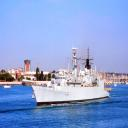Fragata: (31, 46, 112, 109)
